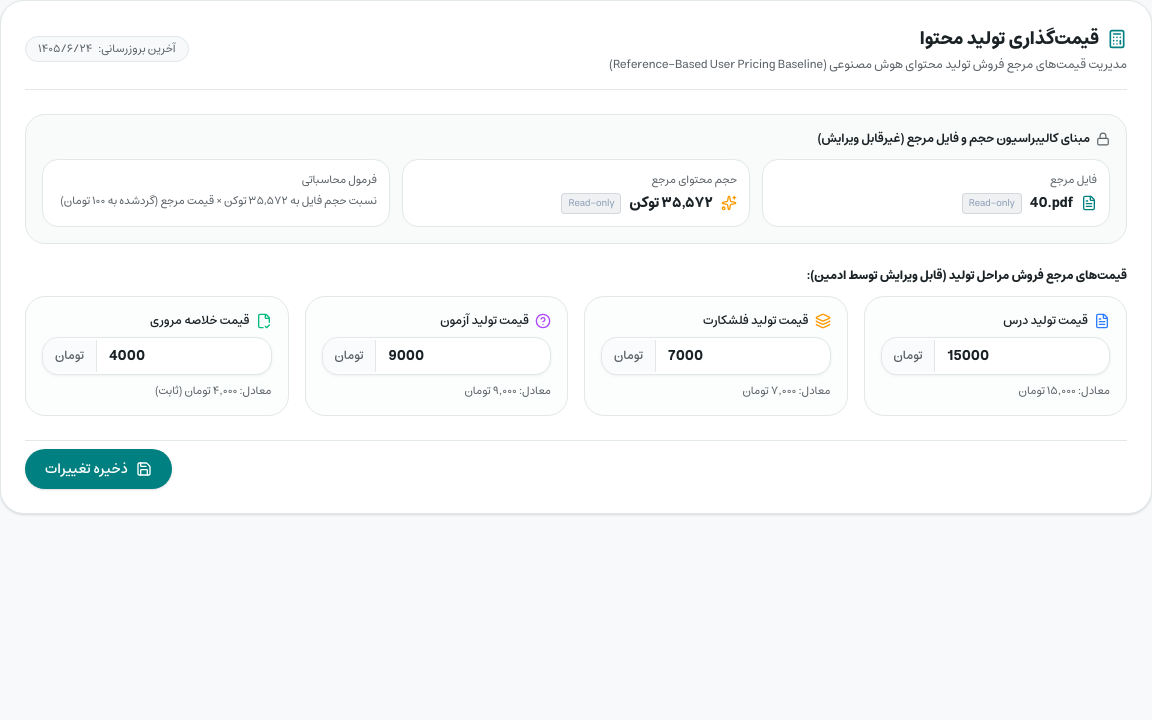
Test: Admin Content Generation Pricing UI Suite › 3. Validates inputs preventing invalid values
Clear the number field with placeholder "15000" below "قیمت تولید درس": [1022, 356] box [935,338,1109,374]
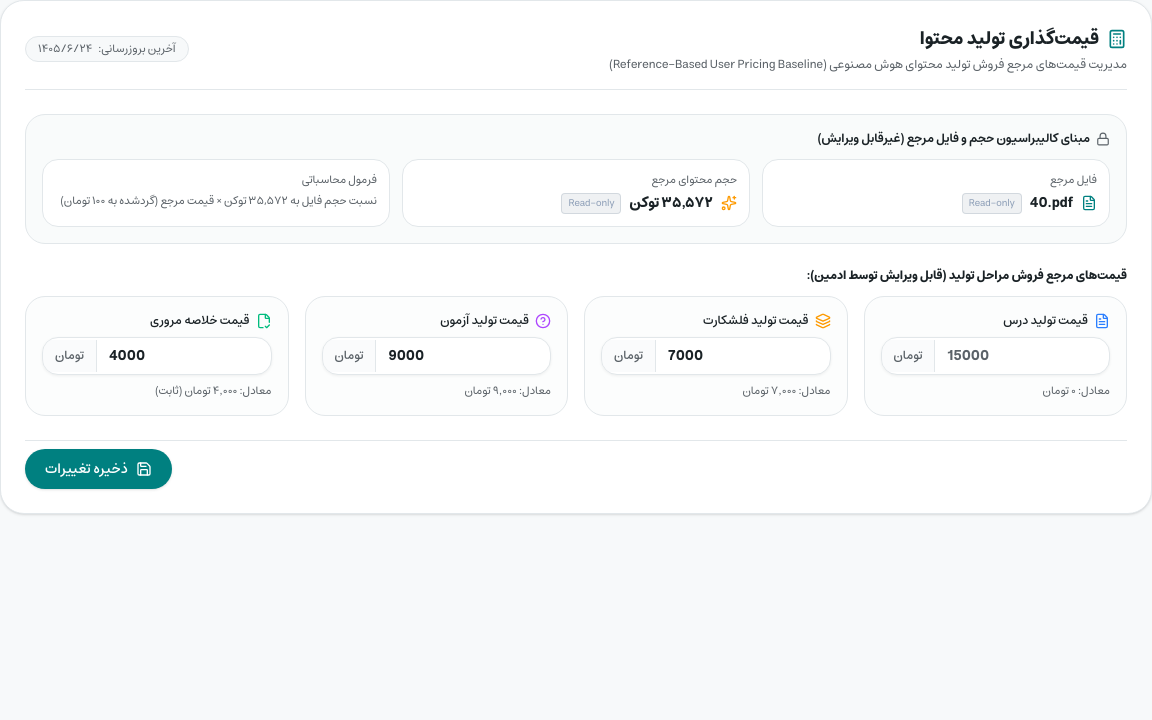
Click the button "ذخیره تغییرات": [98, 469] box [25,449,172,489]
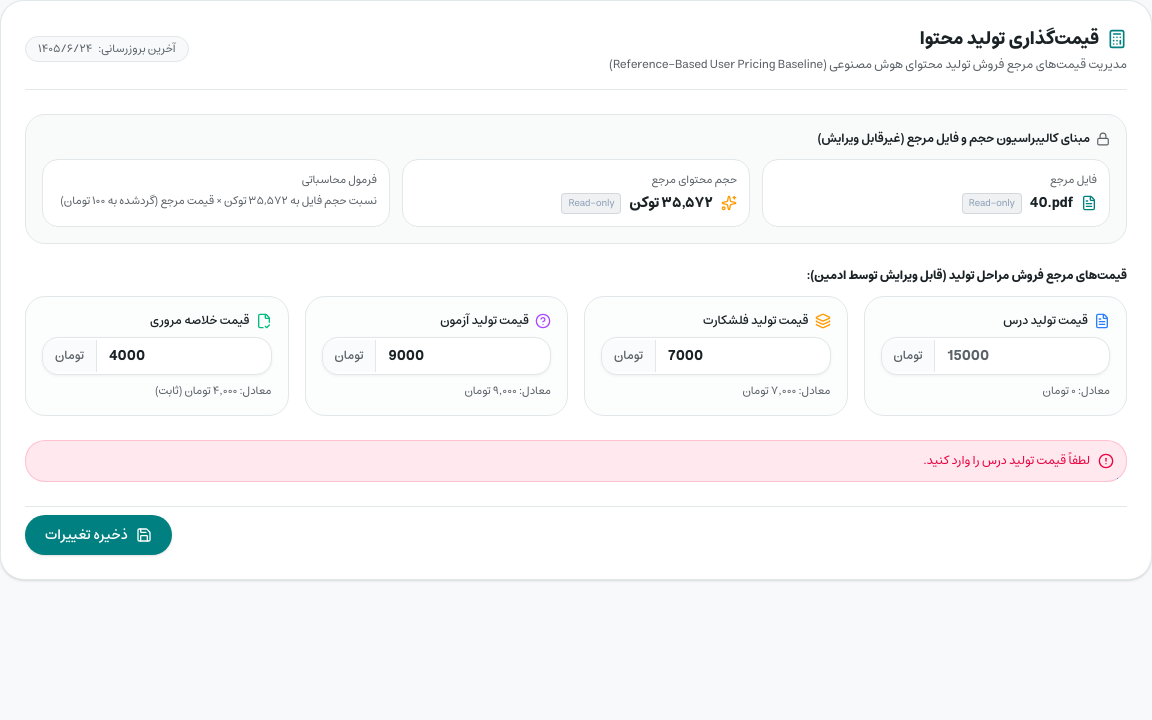
Result: the text "لطفاً قیمت تولید درس را وارد کنید." is shown at [923,453,1090,469]
